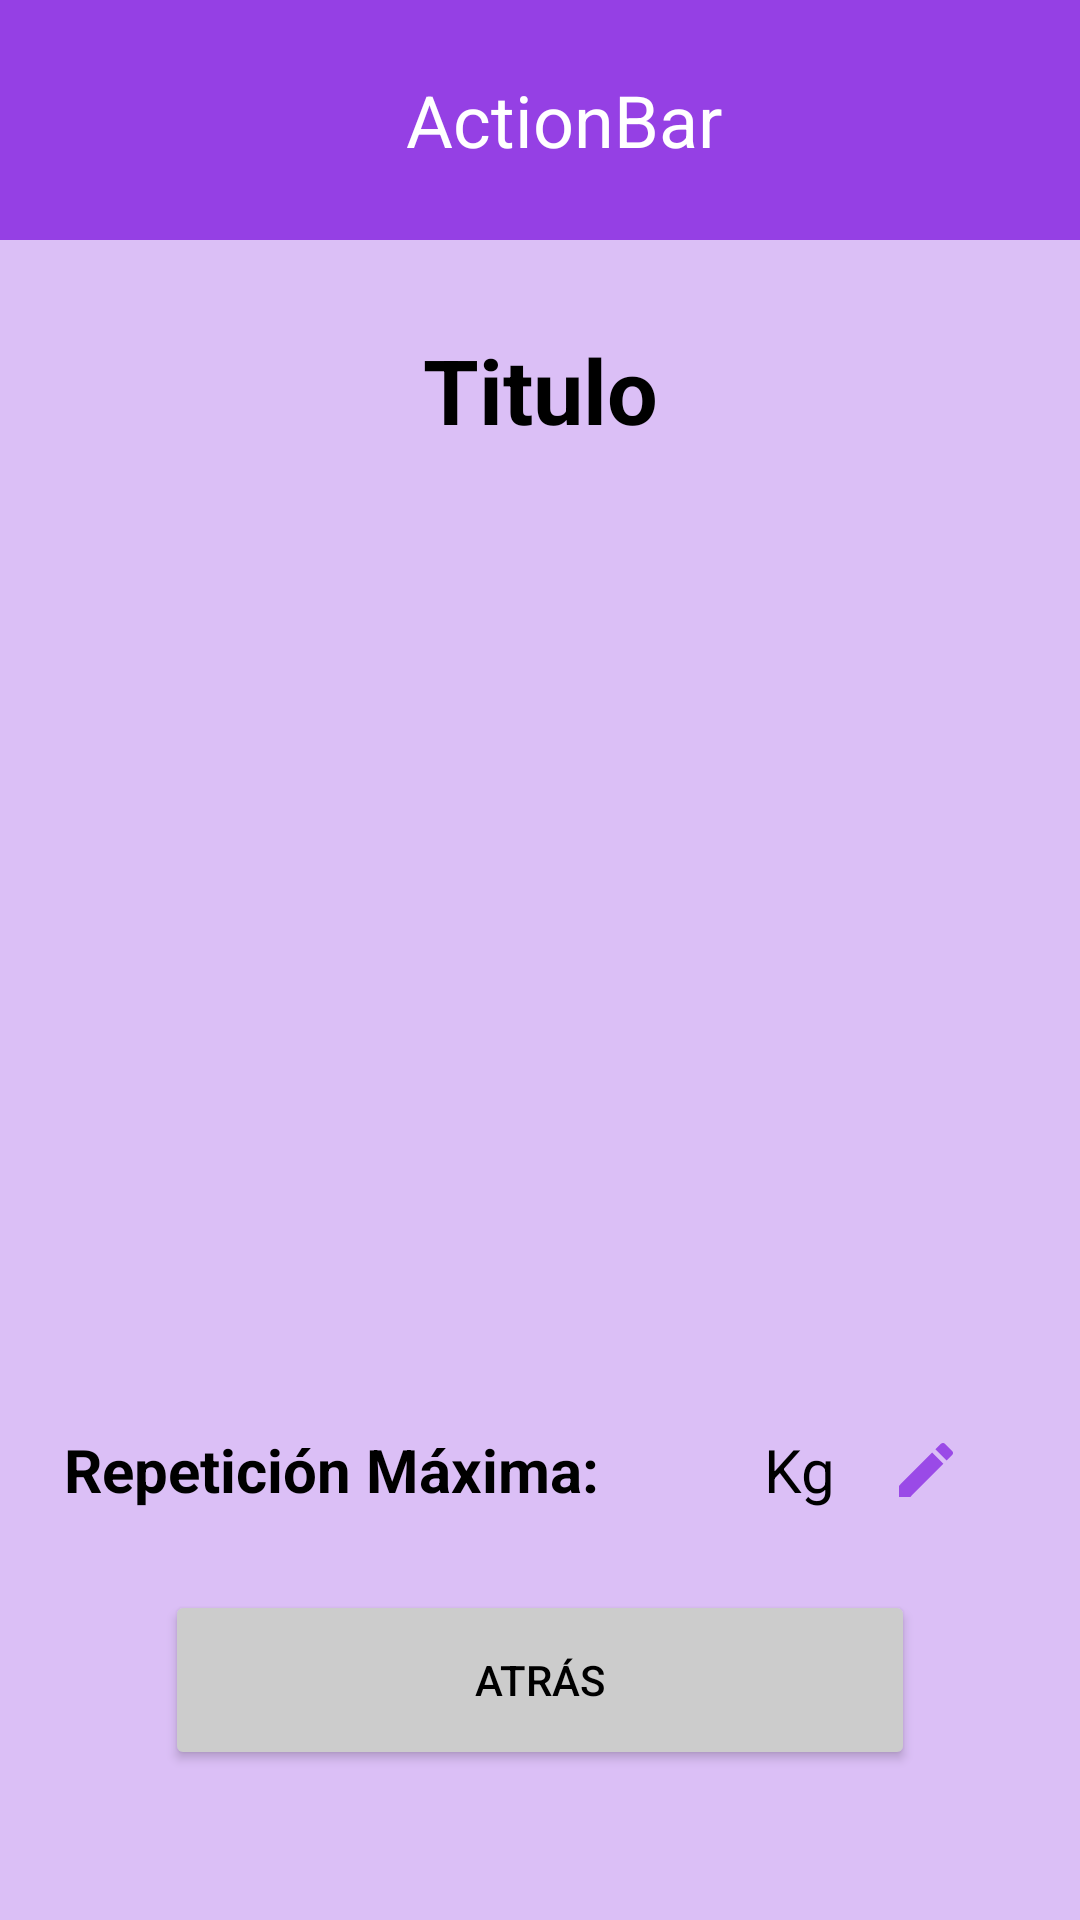

Named icons in this screenshot (1080w x 1920h) and their bounding boxes, detection(x1, y1, x2, y2):
edit: detection(899, 1443, 953, 1497)
